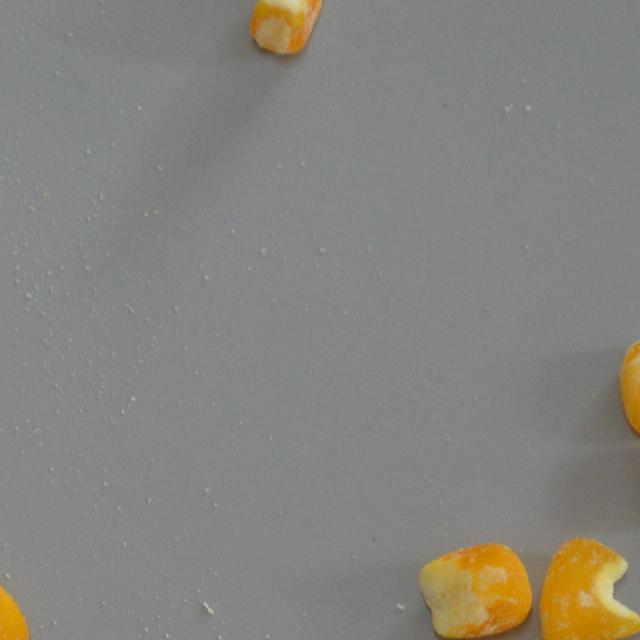pelicula: (416, 542, 532, 640), (538, 536, 640, 640), (618, 338, 640, 439), (0, 572, 29, 640)
